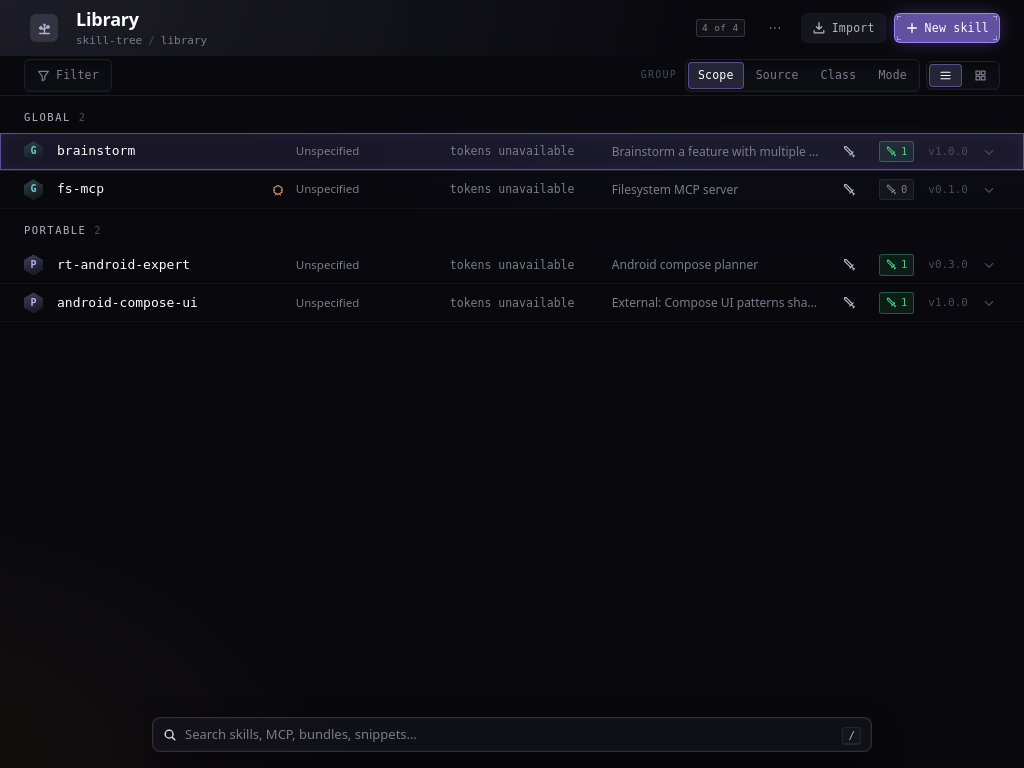
Test: Library grid — equipped-pip badges › each SkillCard carries an .equipped-pip whose count matches equippedCounts
This screenshot has width=1024, height=768.
Click the button named "Grid view".
click(980, 76)  # box 964,64 -> 997,87
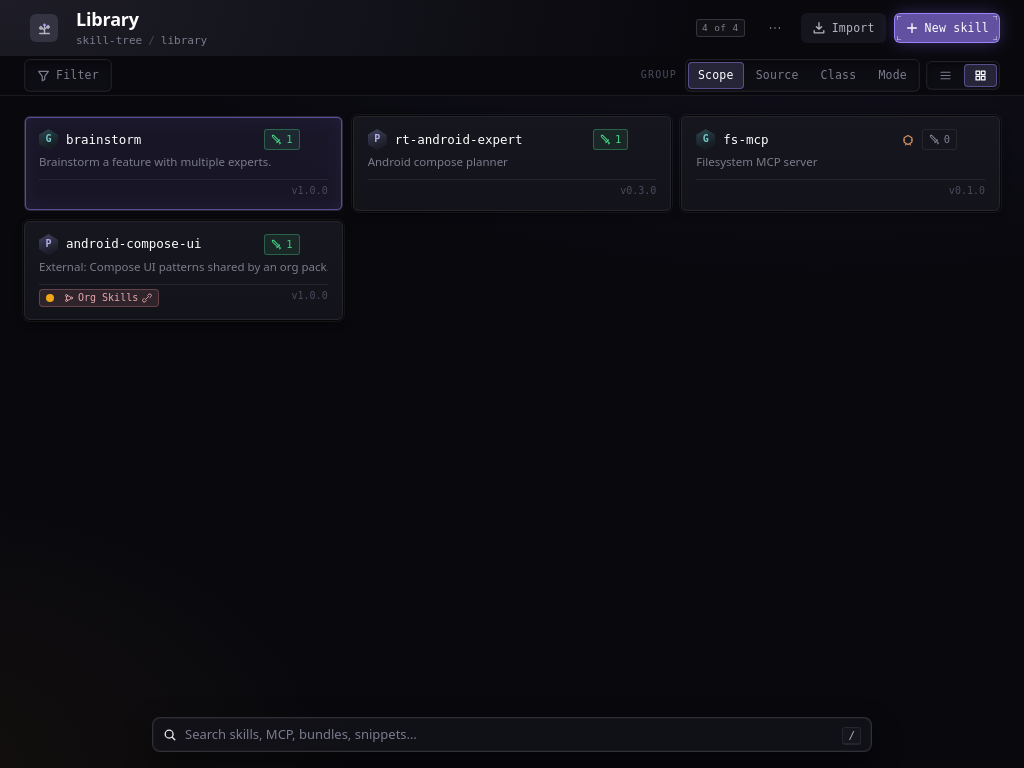
expect the 1st element with class "equipped-pip" is shown: met, box 264,129 -> 300,150
expect the element with class "equipped-pip" reads "0": met, box 944,133 -> 950,145
